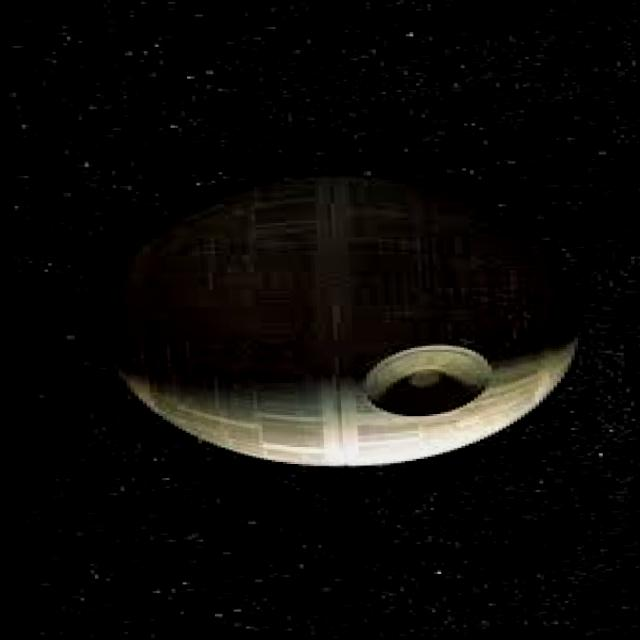deathStar: (99, 174, 579, 467)
